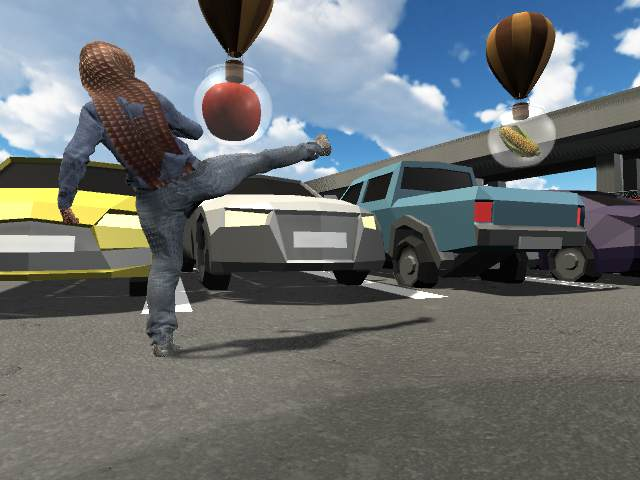turn_right: (55, 39, 338, 360)
